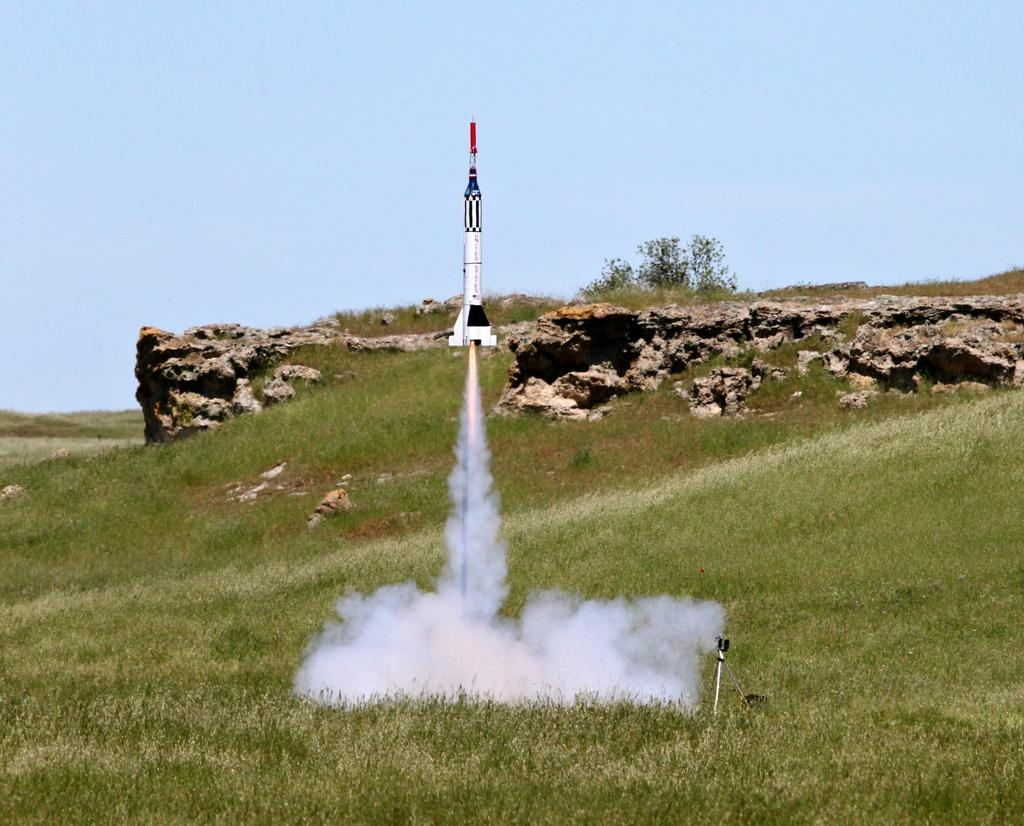Missile: (445, 120, 500, 349)
